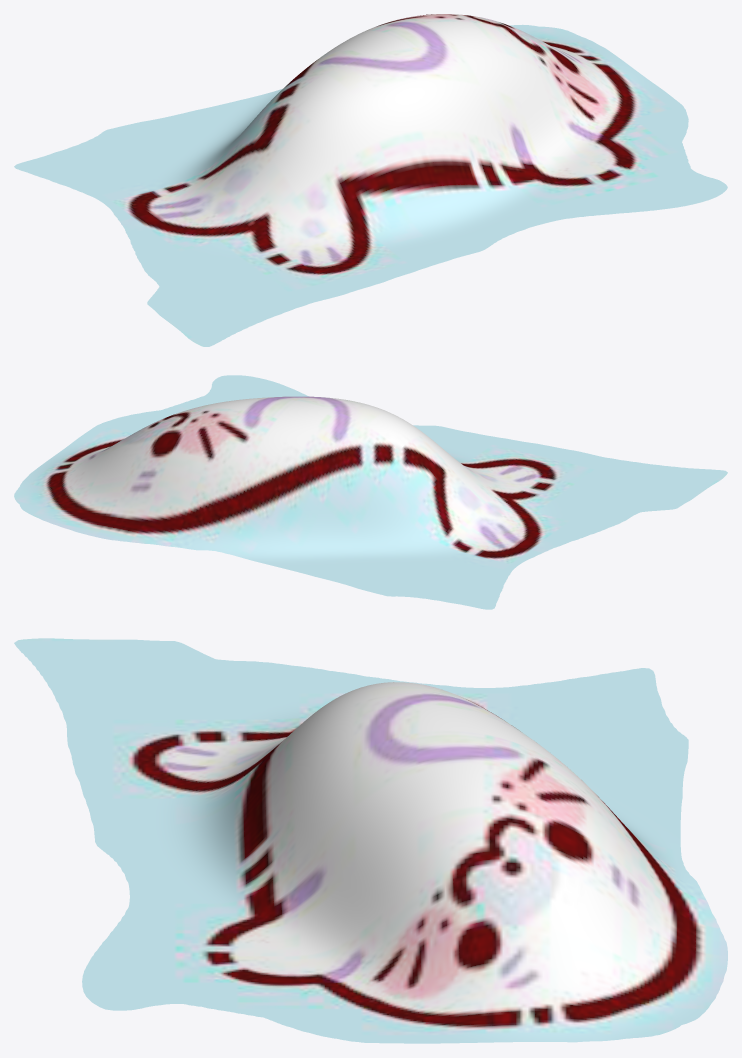
The model's file is 泡泡贴纸6.fbx.
3 renders of one model, top to bottom at view 1: azimuth 30°, elevation 25°; view 2: azimuth 150°, elevation 25°; view 3: azimuth 270°, elevation 25°, orthographic. The views are drawn at different scales.
Parts seen in each view (by area): view 1: 平面.001; view 2: 平面.001; view 3: 平面.001.
Boxes of the visible parts, x1,y1,x2,y2 form: 平面.001: (14, 14, 727, 346); 平面.001: (14, 375, 727, 609); 平面.001: (14, 638, 727, 1043).
Size of the model in its own units: 243 by 40.34 by 181.
